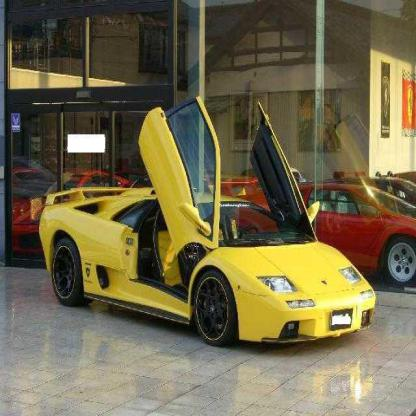Vehicle: (28, 82, 387, 377)
